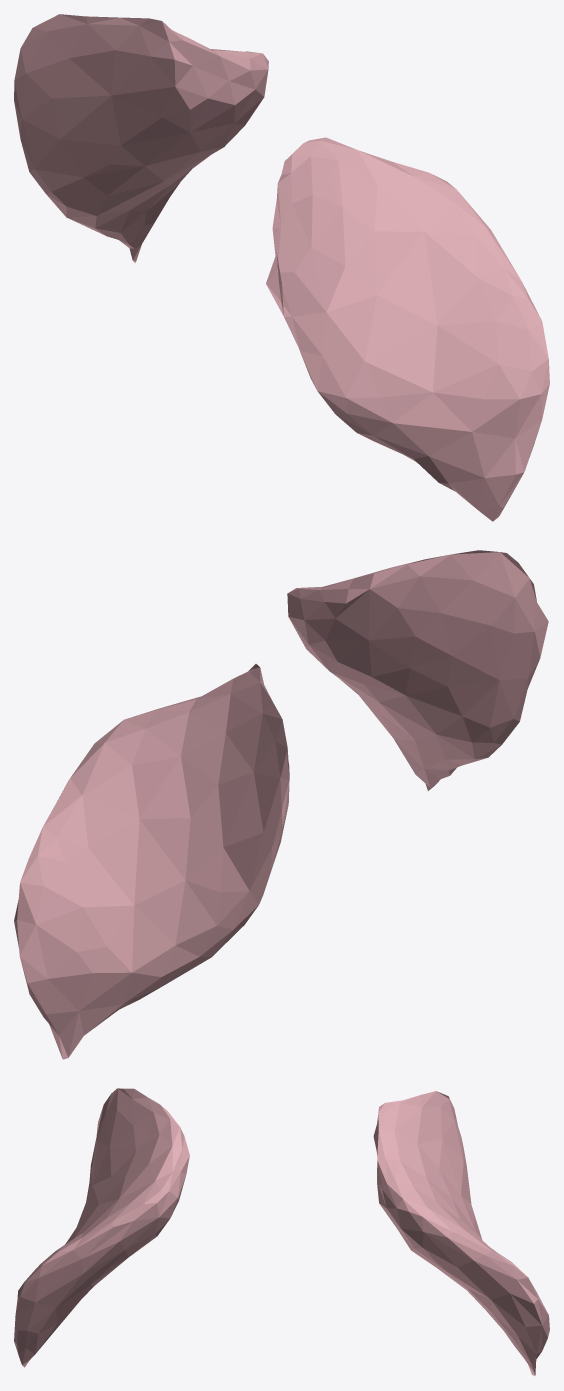
3 views of the same model, one above another, from view 1: azimuth 30°, elevation 25°; view 2: azimuth 150°, elevation 25°; view 3: azimuth 270°, elevation 25° (orthographic). The views are drawn at different scales.
Visible parts, largest first — view 1: 1113.obj; view 2: 1113.obj; view 3: 1113.obj.
Boxes of the visible parts, x1,y1,x2,y2 form: 1113.obj: [14, 14, 549, 521]; 1113.obj: [14, 550, 548, 1059]; 1113.obj: [14, 1088, 549, 1375].
Bounding box in the file's own units: 585 × 797 × 1603.
